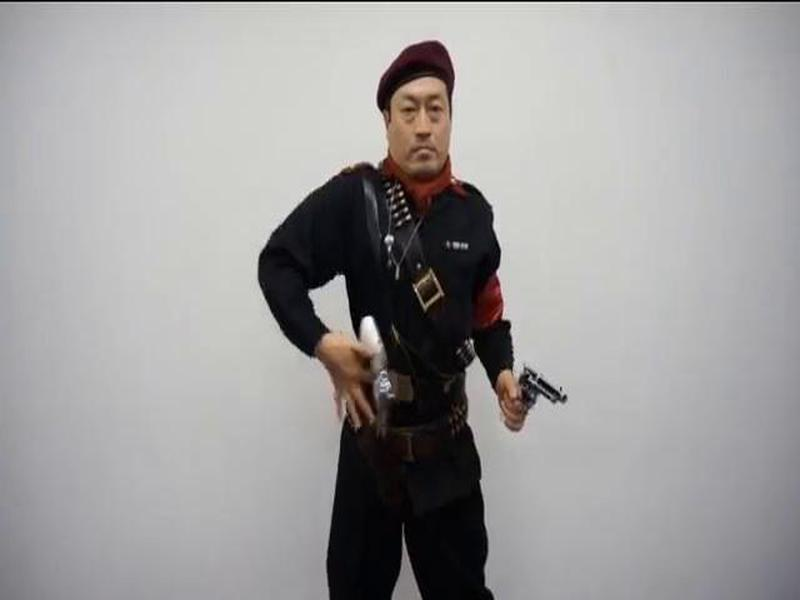Revolver: (506, 356, 572, 439)
